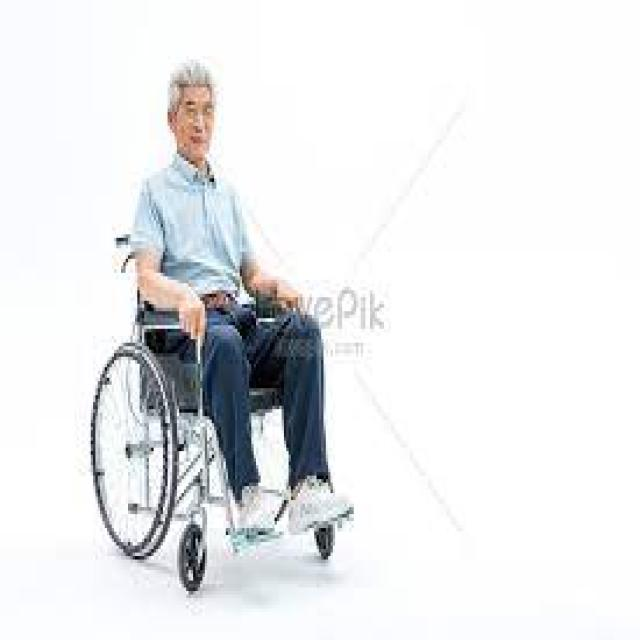wheelchairs: (84, 227, 354, 591)
